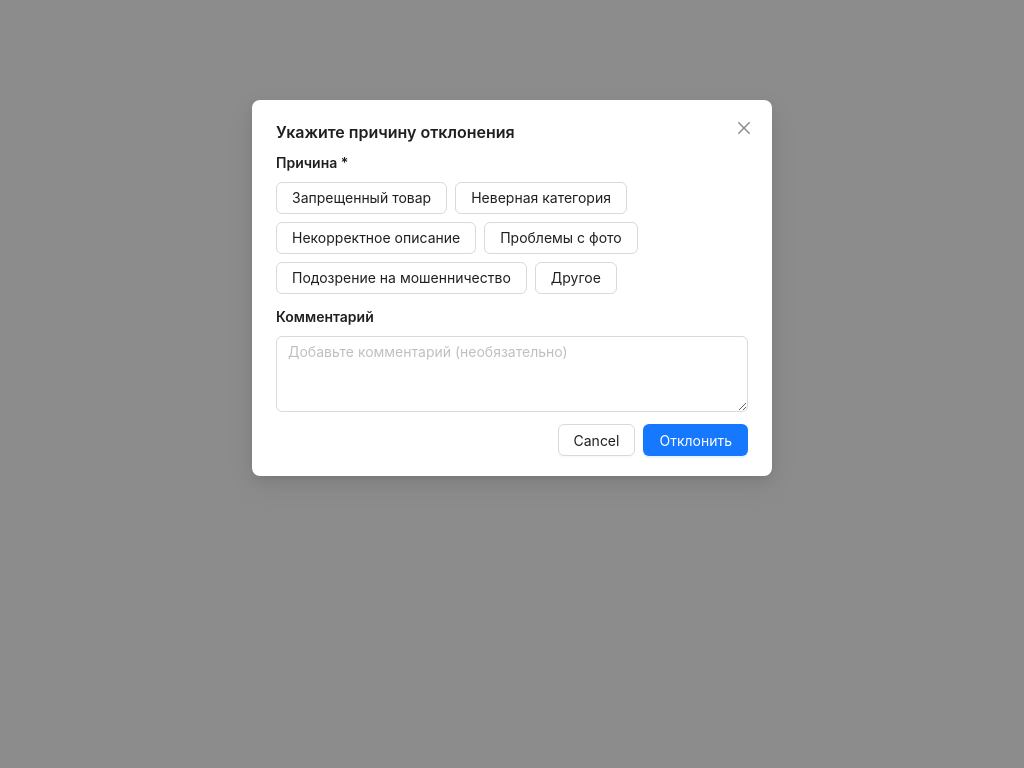
ModalWindow › показывает ошибку, если отправить отклонение без выбранной причины
The image size is (1024, 768).
Click the button "Отклонить" at (696, 440), box [643, 424, 748, 456]
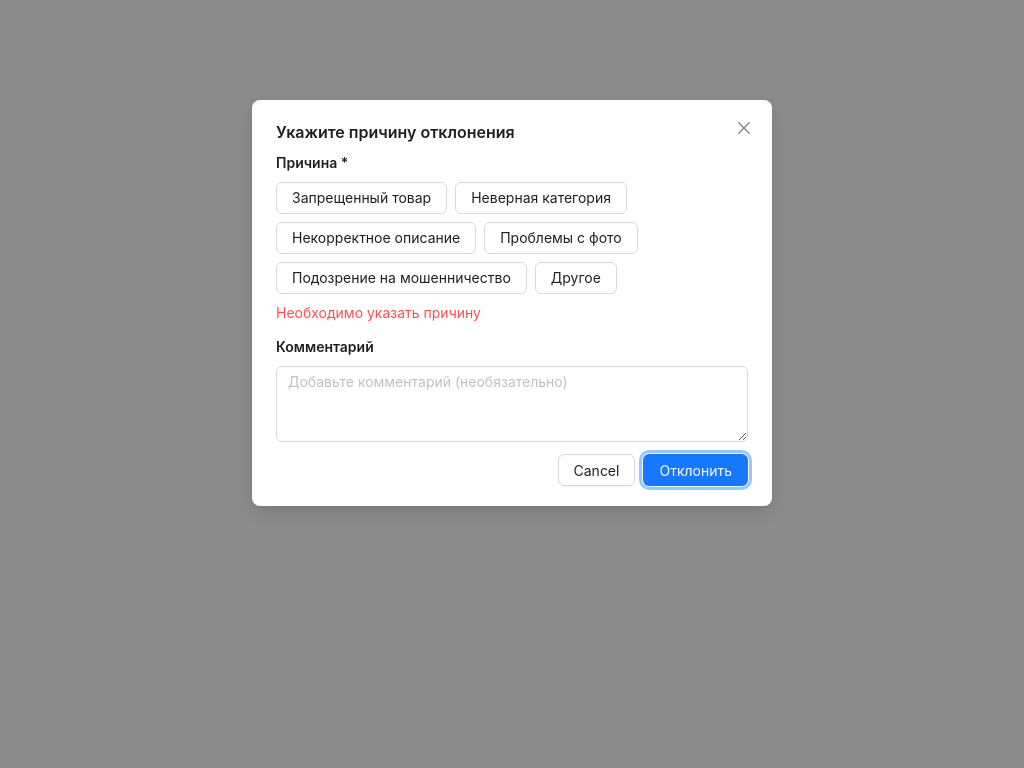
Result: the text "Необходимо указать причину" is shown at [276, 304, 481, 321]
